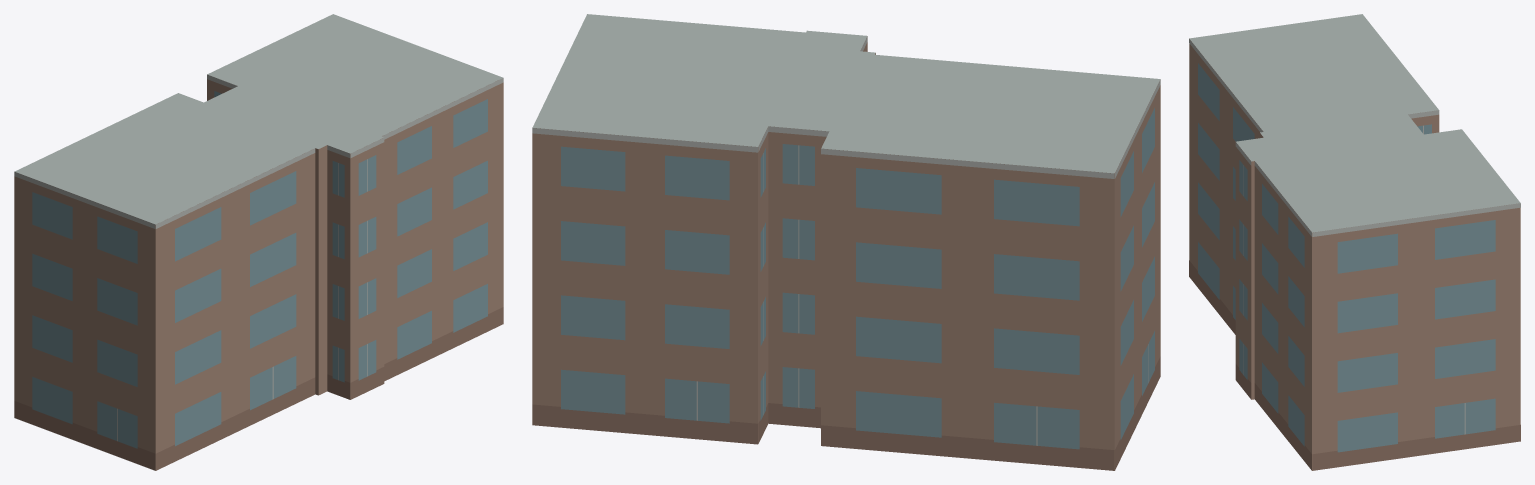
File: survey-upis-32982094.glb
3 renders of one model, left to right at view 1: azimuth 30°, elevation 25°; view 2: azimuth 150°, elevation 25°; view 3: azimuth 270°, elevation 25°, orthographic. The views are drawn at different scales.
Visible parts, largest first — view 1: survey-upis-32982094.tmp; view 2: survey-upis-32982094.tmp; view 3: survey-upis-32982094.tmp.
Boxes of the visible parts, left/top/right/bottom form: survey-upis-32982094.tmp: left=14, top=14, right=503, bottom=470; survey-upis-32982094.tmp: left=532, top=14, right=1160, bottom=470; survey-upis-32982094.tmp: left=1189, top=14, right=1520, bottom=470.
Bounding box in the file's own units: 25.19 × 12.8 × 16.15.
